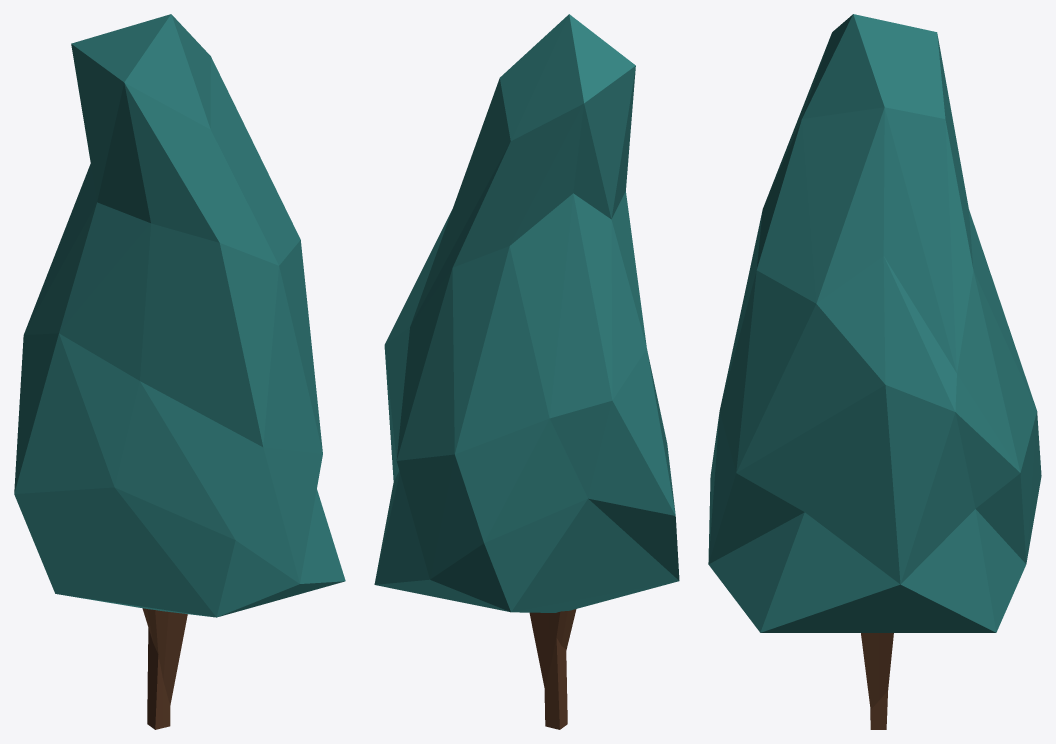
The model's file is Tree_20_Blue.fbx.
3 views of the same model, side by side, from view 1: azimuth 30°, elevation 25°; view 2: azimuth 150°, elevation 25°; view 3: azimuth 270°, elevation 25° (orthographic). The views are drawn at different scales.
Parts seen in each view (by area): view 1: Tree_20_Blue_Part_1, Tree_20_Blue_Part_2; view 2: Tree_20_Blue_Part_1, Tree_20_Blue_Part_2; view 3: Tree_20_Blue_Part_1, Tree_20_Blue_Part_2.
Boxes of the visible parts, x1,y1,x2,y2 form: Tree_20_Blue_Part_1: (14,14,345,617); Tree_20_Blue_Part_2: (142,608,187,729); Tree_20_Blue_Part_1: (374,14,679,612); Tree_20_Blue_Part_2: (529,609,576,729); Tree_20_Blue_Part_1: (708,14,1041,632); Tree_20_Blue_Part_2: (861,633,893,729).
Bounding box in the file's own units: 332 × 789 × 334.
